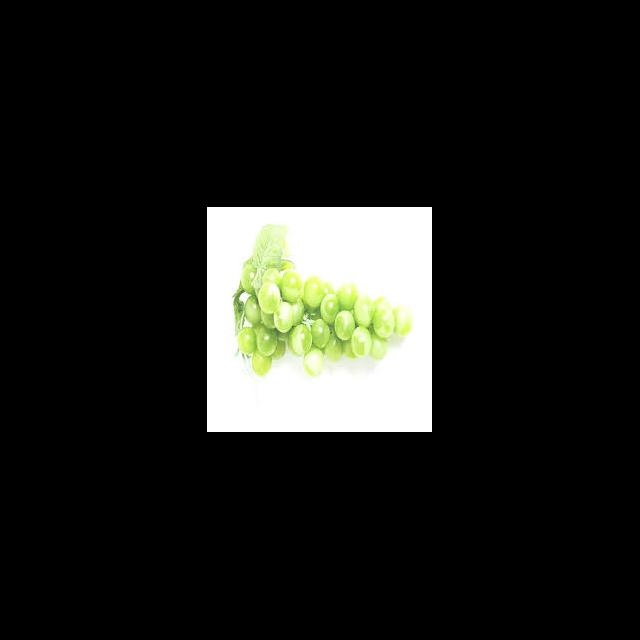grape: (232, 224, 412, 378)
